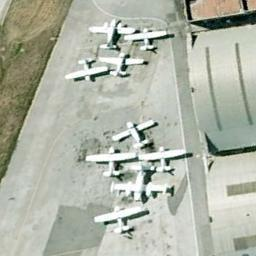Airplane: (104, 164, 184, 206), (92, 204, 154, 242), (86, 146, 140, 178), (97, 49, 148, 80), (62, 54, 112, 85), (84, 18, 134, 48), (110, 118, 160, 148), (140, 146, 190, 173), (124, 26, 169, 52)
